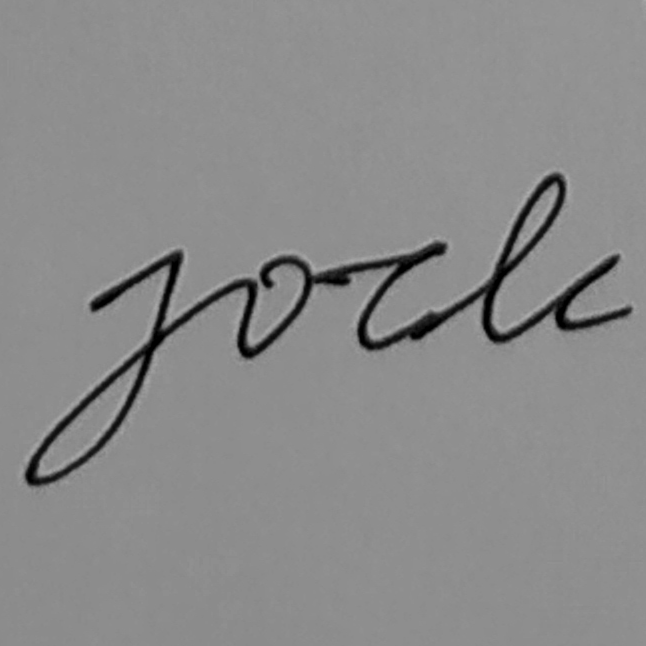c: (349, 237, 456, 354)
j: (21, 244, 186, 488)
k: (478, 168, 636, 347)
o: (232, 250, 316, 364)
